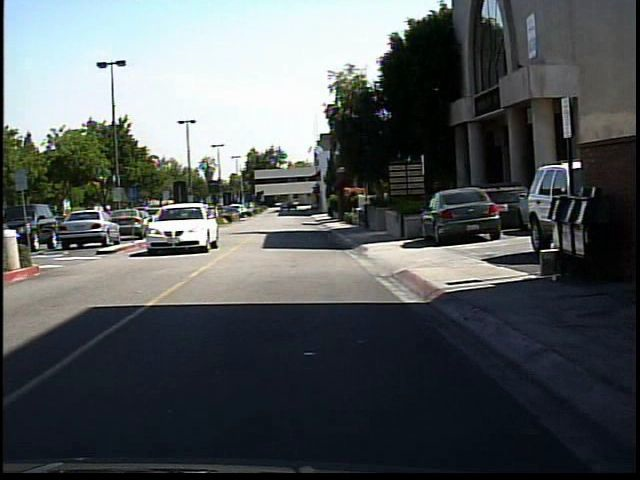person: (157, 194, 182, 249)
